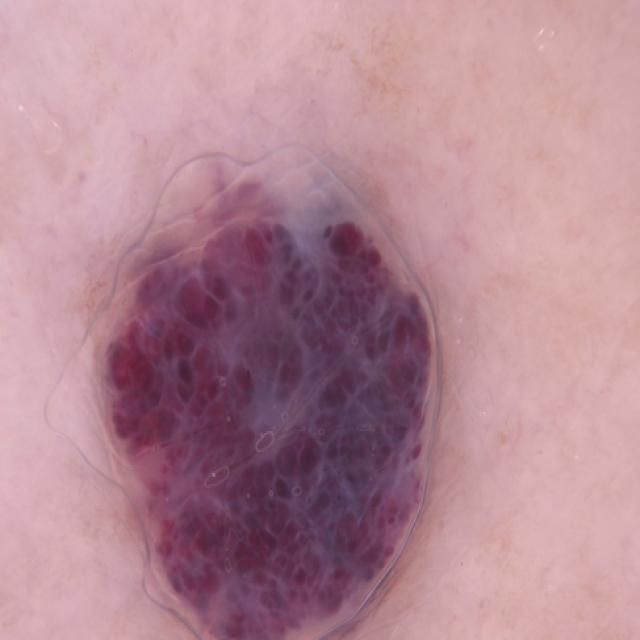Vascular Lesions: (76, 138, 495, 640)
